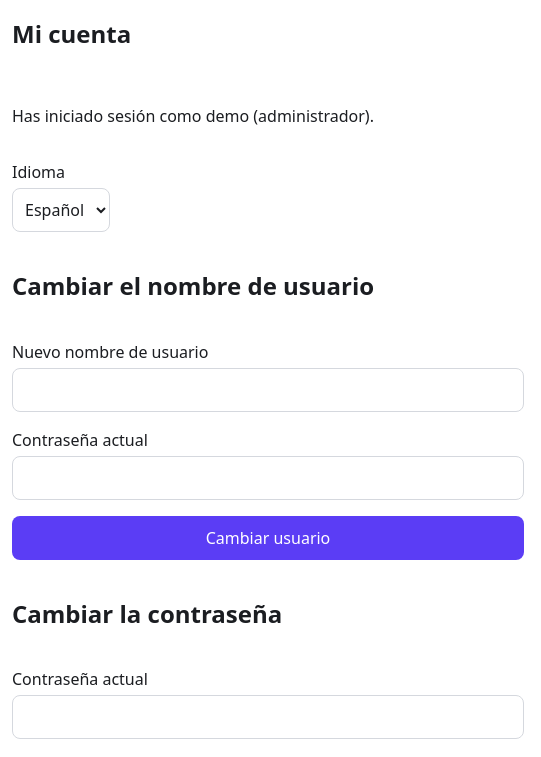
Test: AccountView › cambia el idioma y lo recuerda
Select "English" in the dropdown labelled "Idioma". click: [61, 210]
box: [12,188,110,232]
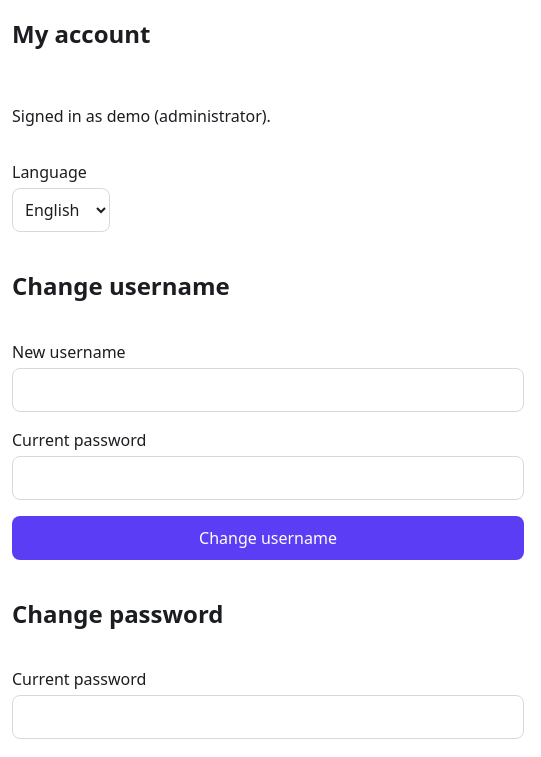
expect the heading "My account" is shown: met, box [12,17,150,50]
